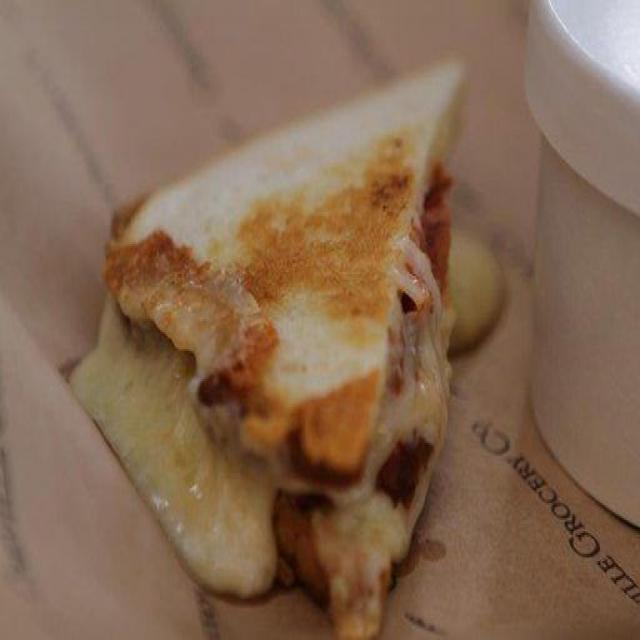food_waste: (39, 51, 548, 640)
